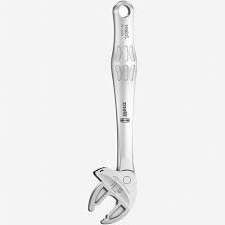Wrench: (79, 1, 149, 225)
